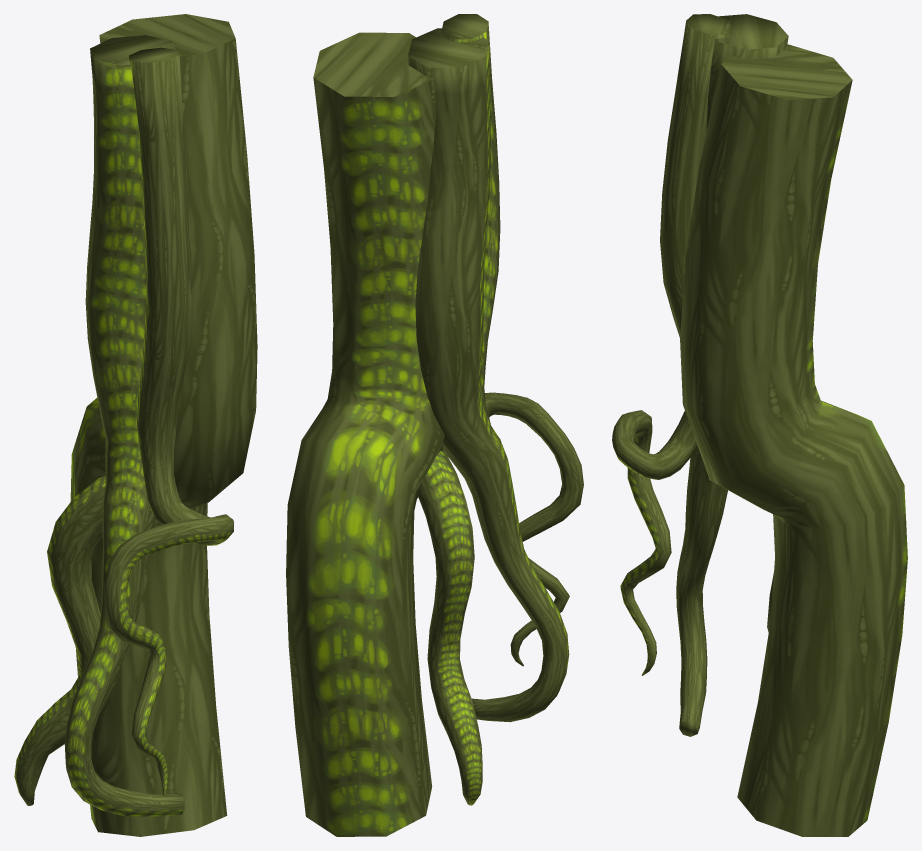
Rendered from tt_forest_root13.FBX.
3 renders of one model, left to right at view 1: azimuth 30°, elevation 25°; view 2: azimuth 150°, elevation 25°; view 3: azimuth 270°, elevation 25°, orthographic. The views are drawn at different scales.
Visible parts, largest first — view 1: tt_forest_root13; view 2: tt_forest_root13; view 3: tt_forest_root13.
Part boxes in pixels (x1,y1,x2,y2): tt_forest_root13: [14, 14, 257, 836]; tt_forest_root13: [286, 14, 583, 836]; tt_forest_root13: [612, 14, 907, 836].
Size of the model in its own units: 882 by 3247 by 1123.
